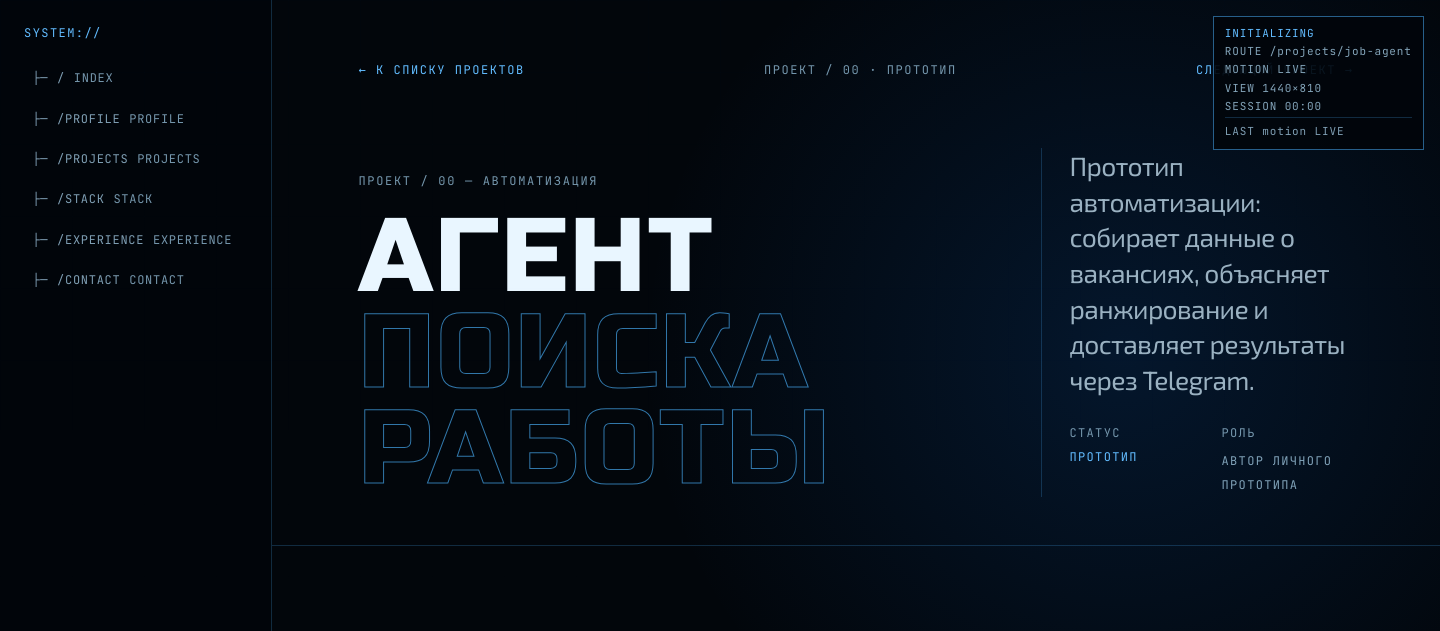
Test: project routes › opens the projects index when leaving a dossier
Expected: the heading "АГЕНТ ПОИСКА РАБОТЫ" is shown, [358, 194, 832, 512]
Click the link "← К списку проектов". click: (442, 70)
box: [358, 62, 525, 78]
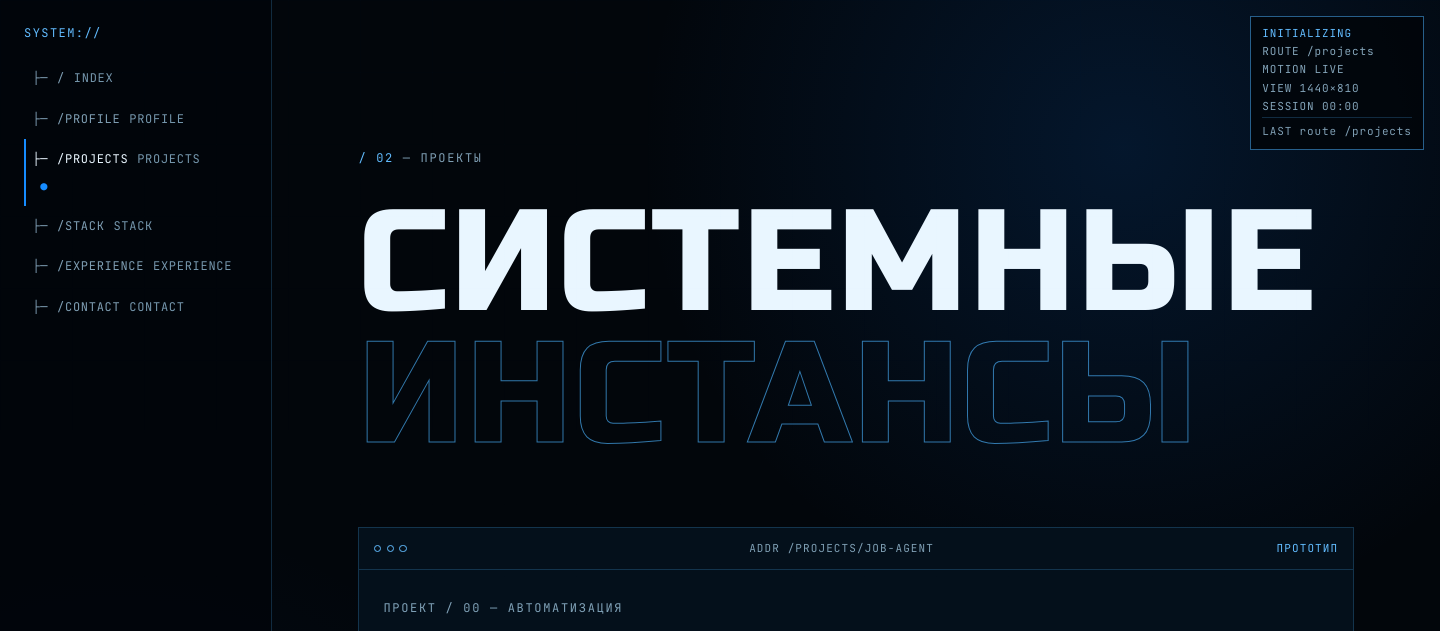
Now the heading named "системные инстансы" is shown, box [358, 198, 1354, 463]
